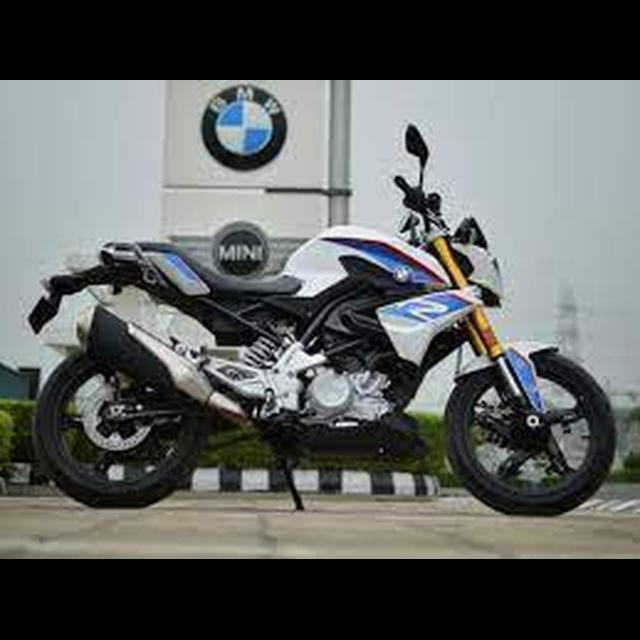motorcycle: (25, 125, 620, 522)
